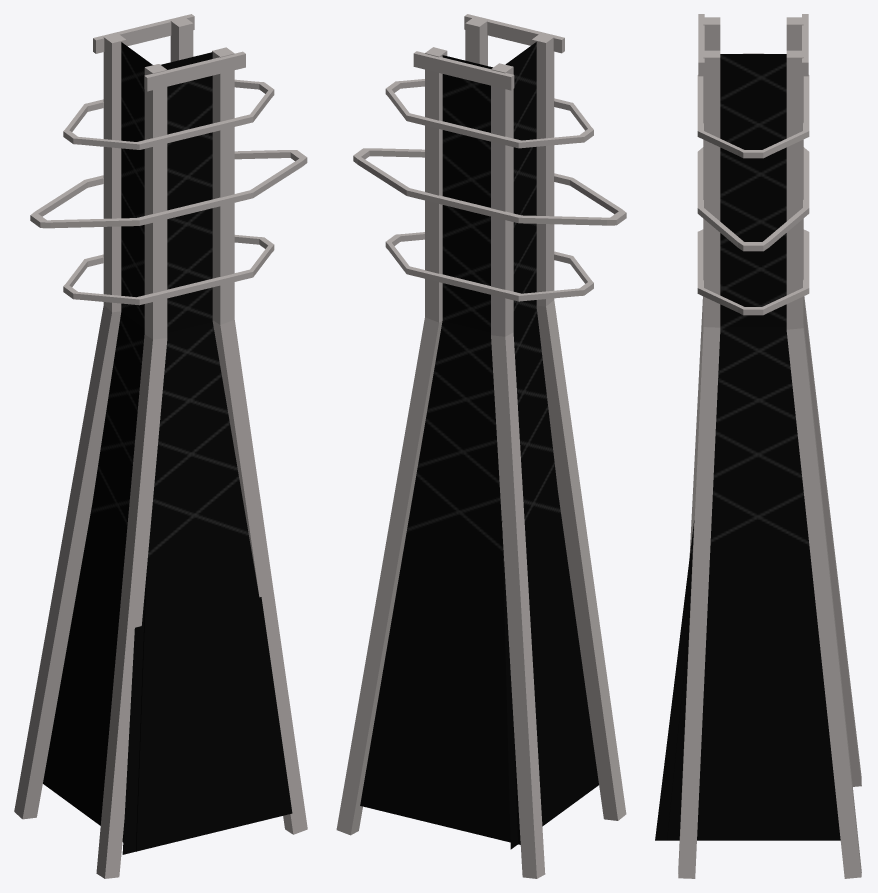
Rendered from powerPole.fbx.
3 views of the same model, side by side, from view 1: azimuth 30°, elevation 25°; view 2: azimuth 150°, elevation 25°; view 3: azimuth 270°, elevation 25° (orthographic). The views are drawn at different scales.
Parts seen in each view (by area): view 1: powerWires2, powerWires1, pCube40, pCube41, pCube43, pCube54, pCube53, pCube55, pCube51, pCube50, pCube42; view 2: powerWires, powerWires1, pCube41, pCube40, pCube42, pCube54, pCube53, pCube55, pCube50, pCube51, pCube43; view 3: powerWires3, pCube42, pCube43, pCube41, pCube54, pCube55, pCube53, pCube40, pCube50, pCube51.
Boxes of the visible parts, x1=… form: powerWires2: x1=122, y1=52, x2=292, y2=854; powerWires1: x1=43, y1=42, x2=152, y2=851; pCube40: x1=96, y1=64, x2=167, y2=878; pCube41: x1=14, y1=33, x2=126, y2=819; pCube43: x1=212, y1=47, x2=307, y2=834; pCube54: x1=30, y1=150, x2=307, y2=228; pCube53: x1=63, y1=79, x2=274, y2=149; pCube55: x1=63, y1=235, x2=274, y2=305; pCube51: x1=144, y1=51, x2=245, y2=91; pCube50: x1=93, y1=14, x2=194, y2=53; pCube42: x1=170, y1=17, x2=193, y2=62; powerWires: x1=360, y1=55, x2=520, y2=844; powerWires1: x1=502, y1=42, x2=598, y2=849; pCube41: x1=491, y1=63, x2=545, y2=878; pCube40: x1=531, y1=33, x2=626, y2=820; pCube42: x1=336, y1=47, x2=447, y2=835; pCube54: x1=353, y1=148, x2=626, y2=225; pCube53: x1=385, y1=79, x2=593, y2=148; pCube55: x1=385, y1=232, x2=593, y2=301; pCube50: x1=413, y1=51, x2=514, y2=90; pCube51: x1=464, y1=14, x2=564, y2=53; pCube43: x1=465, y1=17, x2=487, y2=65; powerWires3: x1=655, y1=54, x2=840, y2=840; pCube42: x1=786, y1=50, x2=861, y2=878; pCube43: x1=678, y1=50, x2=720, y2=878; pCube41: x1=786, y1=17, x2=861, y2=786; pCube54: x1=697, y1=147, x2=809, y2=251; pCube55: x1=697, y1=229, x2=809, y2=315; pCube53: x1=697, y1=53, x2=809, y2=158; pCube40: x1=689, y1=17, x2=720, y2=555; pCube50: x1=802, y1=14, x2=808, y2=76; pCube51: x1=698, y1=14, x2=704, y2=76.
Size of the model in its own units: 1.75 by 4.91 by 1.17.
